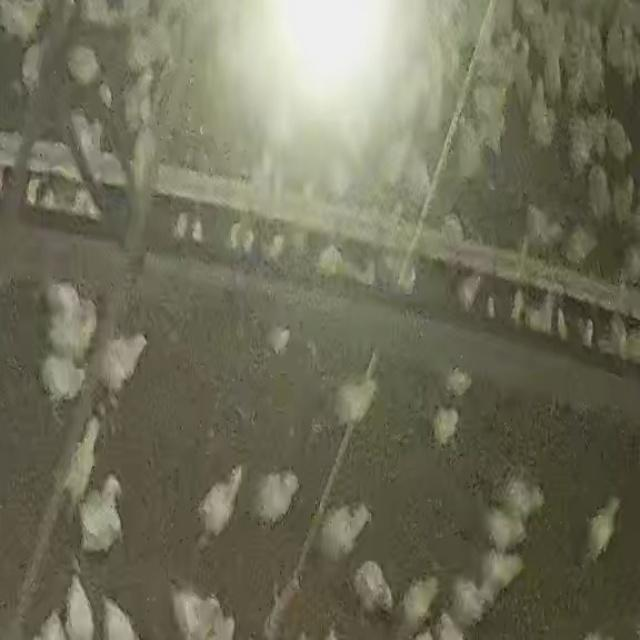chicken: (197, 463, 246, 546), (95, 332, 150, 400), (317, 501, 373, 563), (64, 416, 98, 514), (560, 35, 600, 113), (252, 468, 302, 528), (126, 18, 172, 76), (604, 15, 638, 88), (454, 118, 491, 185), (352, 559, 394, 615), (40, 354, 86, 404), (564, 111, 600, 174), (468, 79, 506, 138), (336, 377, 378, 424), (120, 70, 154, 128), (483, 508, 526, 552), (524, 202, 564, 248), (597, 313, 634, 362), (526, 79, 552, 146), (560, 224, 598, 268), (603, 116, 633, 164), (588, 164, 613, 219), (612, 177, 636, 226), (432, 405, 460, 446), (620, 242, 640, 282)
